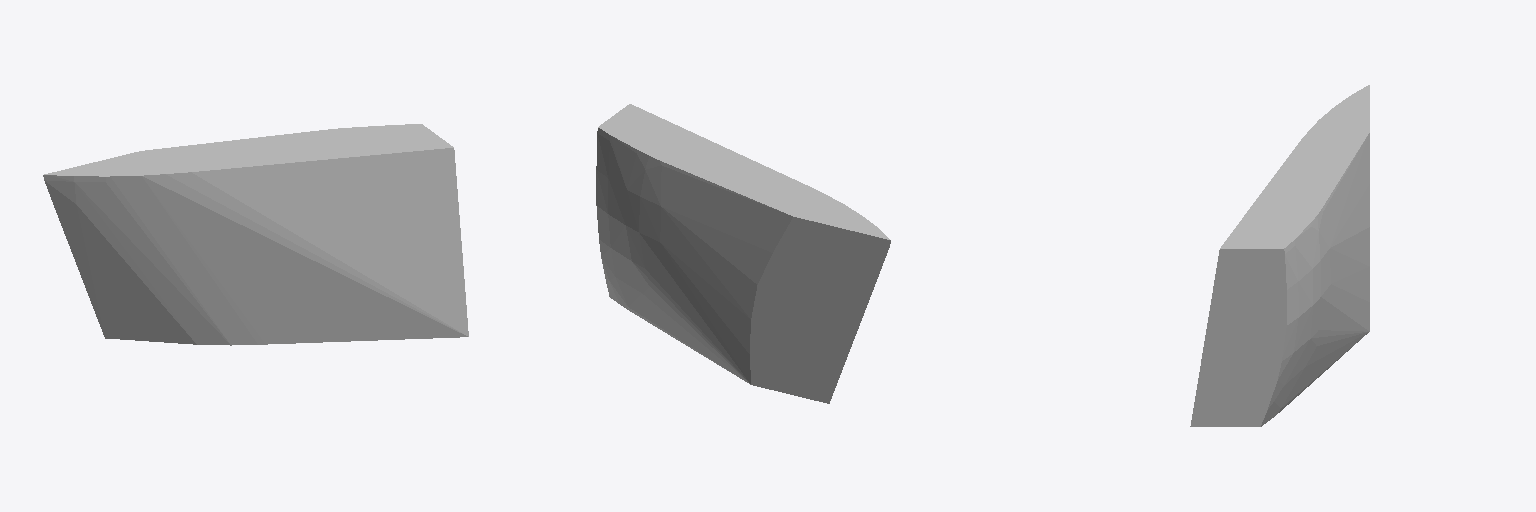
The model's file is phantom-elastrat_collision_509.obj.
3 renders of one model, left to right at view 1: azimuth 30°, elevation 25°; view 2: azimuth 150°, elevation 25°; view 3: azimuth 270°, elevation 25°, orthographic.
Size of the model in its own units: 0.0114 by 0.0058 by 0.0053.